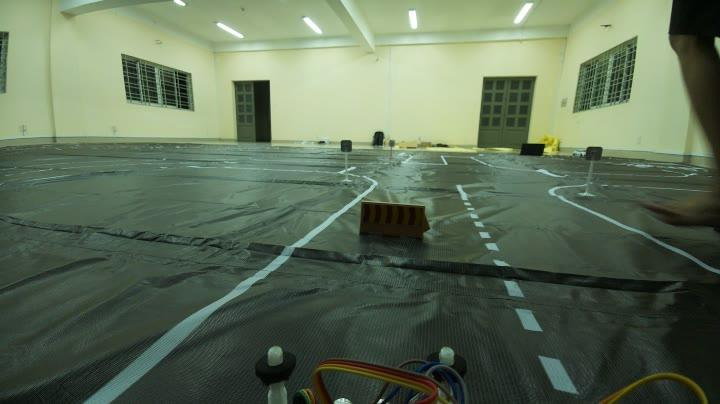roadblock: (354, 194, 434, 250)
